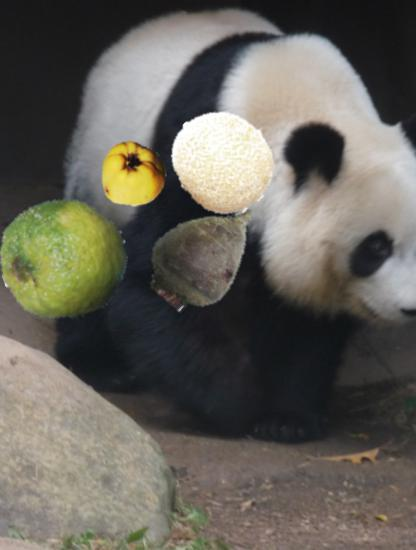Beetroot: (139, 184, 274, 319)
Cantaloupe: (170, 106, 278, 214)
Limes: (0, 196, 128, 324)
Quince: (100, 141, 167, 208)
